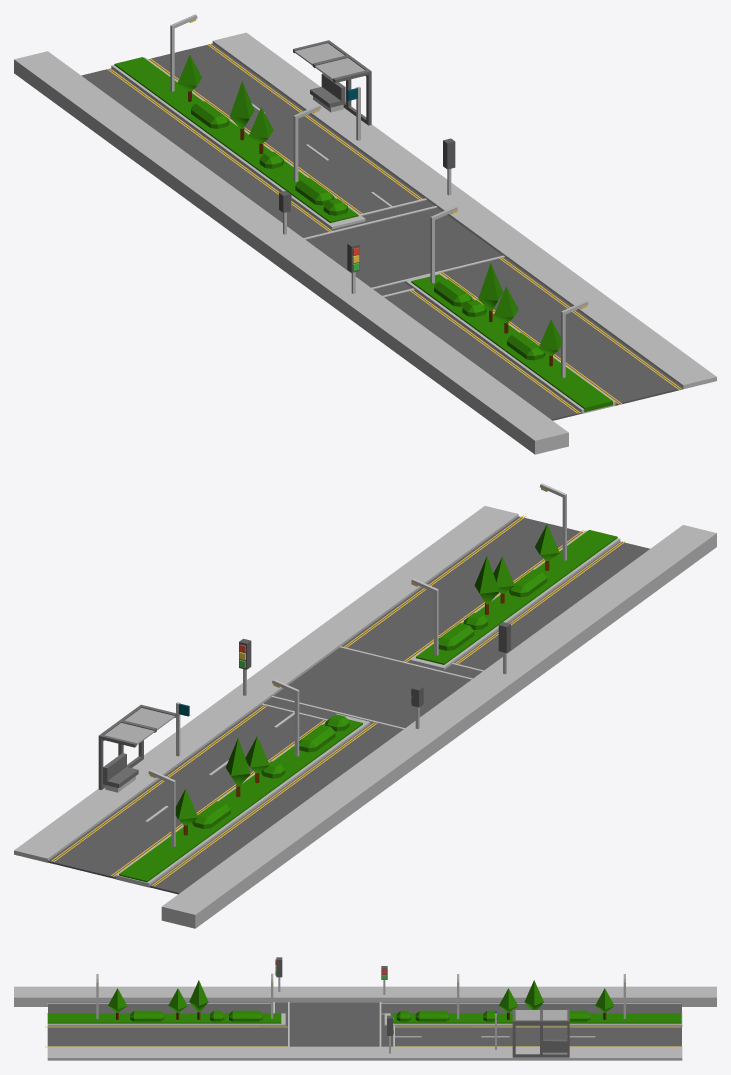
Rendered from street.fbx.
The picture shows the model from 3 angles, top to bottom: view 1: azimuth 30°, elevation 25°; view 2: azimuth 150°, elevation 25°; view 3: azimuth 270°, elevation 25°; orthographic projection. The views are drawn at different scales.
Parts seen in each view (by area): view 1: pCube551, pCube581, pCube673, pCube582, pCube569, pCube674, pCube543, pCube554, pCube672, pCube602, pCube615, pCube526 (+5 smaller); view 2: pCube551, pCube581, pCube582, pCube673, pCube569, pCube674, pCube543, pCube554, pCube602, pCube672, pCube526, pCube615 (+5 smaller); view 3: pCube551, pCube673, pCube581, pCube582, pCube569, pCube674, pCube543, pCube554, pCube672, pCube615, pCube602, pCube509 (+24 smaller).
Part boxes in pixels (bbox=[...]): pCube551: bbox=[14, 51, 568, 454]; pCube581: bbox=[305, 158, 525, 287]; pCube673: bbox=[462, 272, 683, 405]; pCube582: bbox=[149, 43, 368, 173]; pCube569: bbox=[238, 182, 430, 304]; pCube674: bbox=[526, 262, 716, 389]; pCube543: bbox=[369, 147, 559, 272]; pCube554: bbox=[212, 32, 402, 157]; pCube672: bbox=[394, 297, 581, 420]; pCube602: bbox=[81, 68, 267, 189]; pCube615: bbox=[411, 274, 612, 411]; pCube526: bbox=[114, 57, 293, 179]; pCube551: bbox=[161, 525, 716, 928]; pCube581: bbox=[205, 632, 424, 761]; pCube582: bbox=[48, 746, 268, 878]; pCube673: bbox=[360, 516, 582, 647]; pCube569: bbox=[307, 656, 492, 778]; pCube674: bbox=[328, 506, 518, 630]; pCube543: bbox=[171, 621, 361, 746]; pCube554: bbox=[14, 735, 204, 862]; pCube602: bbox=[149, 771, 335, 894]; pCube672: bbox=[462, 541, 649, 664]; pCube526: bbox=[119, 759, 303, 882]; pCube615: bbox=[416, 530, 617, 664]; pCube551: bbox=[14, 986, 716, 1006]; pCube673: bbox=[47, 1026, 261, 1046]; pCube581: bbox=[260, 1026, 470, 1046]; pCube582: bbox=[470, 1026, 681, 1046]; pCube569: bbox=[260, 1002, 470, 1026]; pCube674: bbox=[47, 1046, 259, 1060]; pCube543: bbox=[259, 1046, 471, 1060]; pCube554: bbox=[470, 1046, 682, 1060]; pCube672: bbox=[48, 1002, 261, 1013]; pCube615: bbox=[47, 1013, 281, 1023]; pCube602: bbox=[470, 1002, 681, 1013]; pCube509: bbox=[512, 1009, 569, 1057].
Bounding box in the file's own units: 6.12 × 2.28 × 26.69.
1 material, 1 textured.
